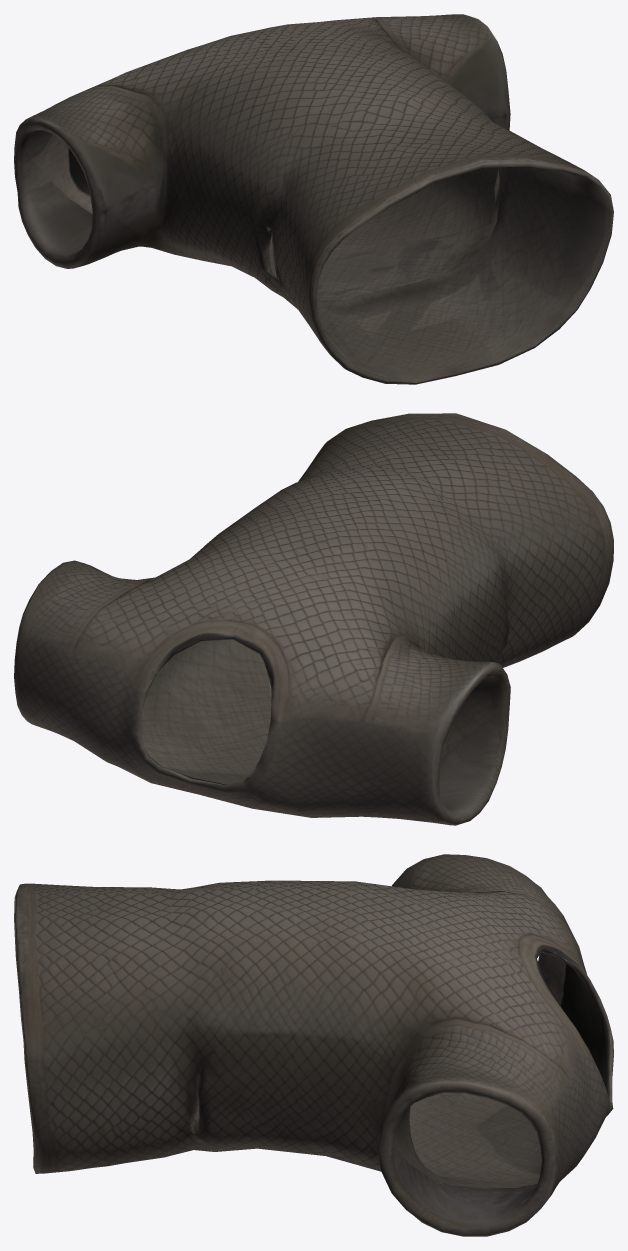
The model's file is chainbody.glb.
3 views of the same model, one above another, from view 1: azimuth 30°, elevation 25°; view 2: azimuth 150°, elevation 25°; view 3: azimuth 270°, elevation 25° (orthographic). The views are drawn at different scales.
Visible parts, largest first — view 1: Mesh_0; view 2: Mesh_0; view 3: Mesh_0.
Boxes of the visible parts, x1,y1,x2,y2 form: Mesh_0: (14,14,613,384); Mesh_0: (14,413,613,825); Mesh_0: (14,854,613,1236).
Bounding box in the file's own units: 2.72 × 1.33 × 2.99.
1 material, 1 textured.
